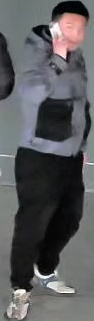phone: (18, 20, 80, 113)
